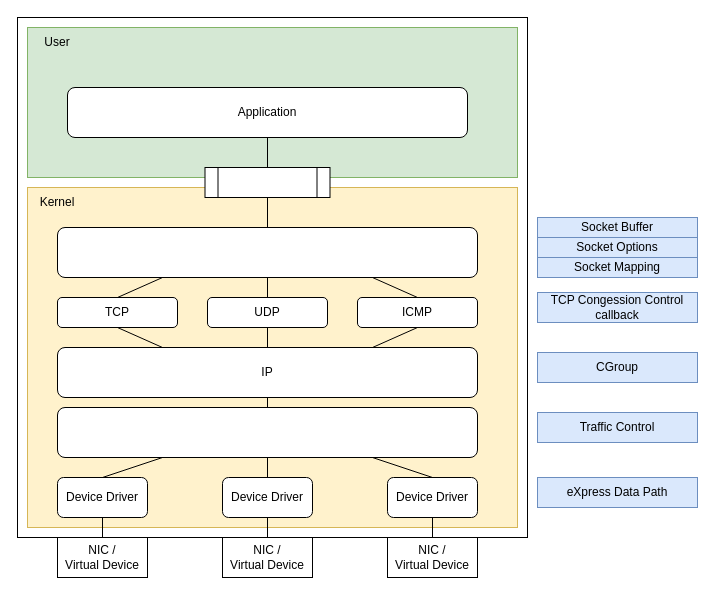
The diagram is 715 pixels wide and 595 high, and some of its shapes have lost their labels. The centre of each missing label's shape, as x and y in pixels:
Queueing Discipline: point 267,432
Socket: point 267,252
System calls: point 267,182
